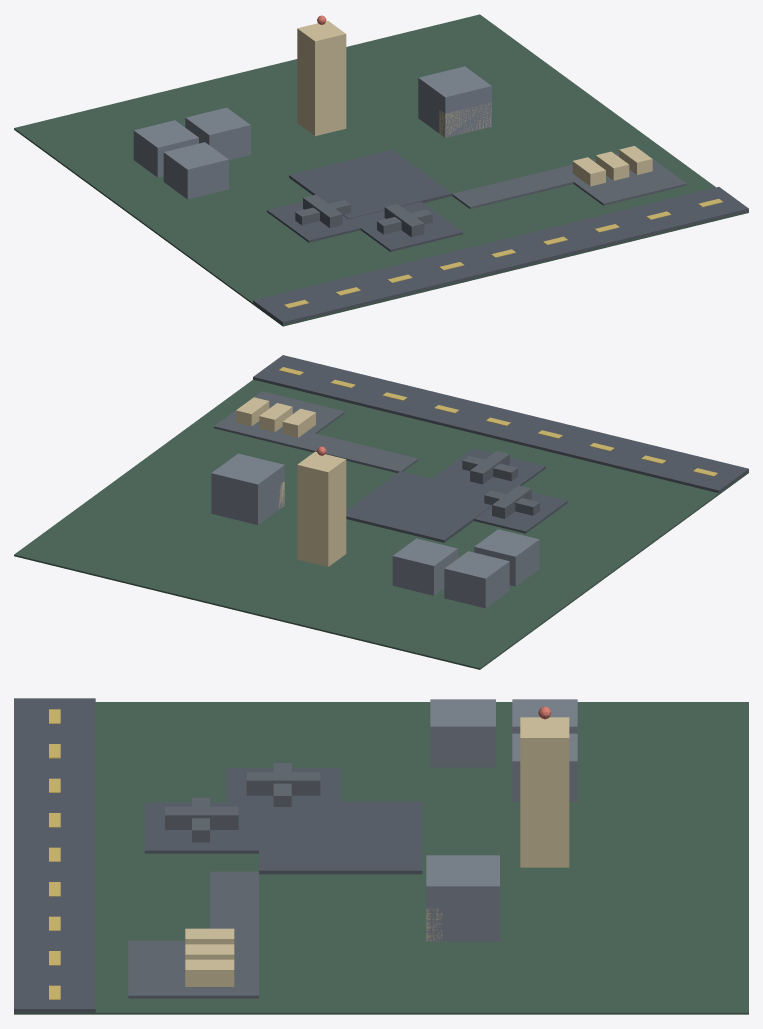
The model's file is stage_10.glb.
3 views of the same model, one above another, from view 1: azimuth 30°, elevation 25°; view 2: azimuth 150°, elevation 25°; view 3: azimuth 270°, elevation 25° (orthographic). The views are drawn at different scales.
Parts seen in each view (by area): view 1: geometry_0; view 2: geometry_0; view 3: geometry_0.
Part boxes in pixels (bbox=[...]): geometry_0: bbox=[14, 14, 748, 326]; geometry_0: bbox=[14, 355, 748, 669]; geometry_0: bbox=[14, 698, 748, 1014].
Bounding box in the file's own units: 9 × 2.06 × 9.
